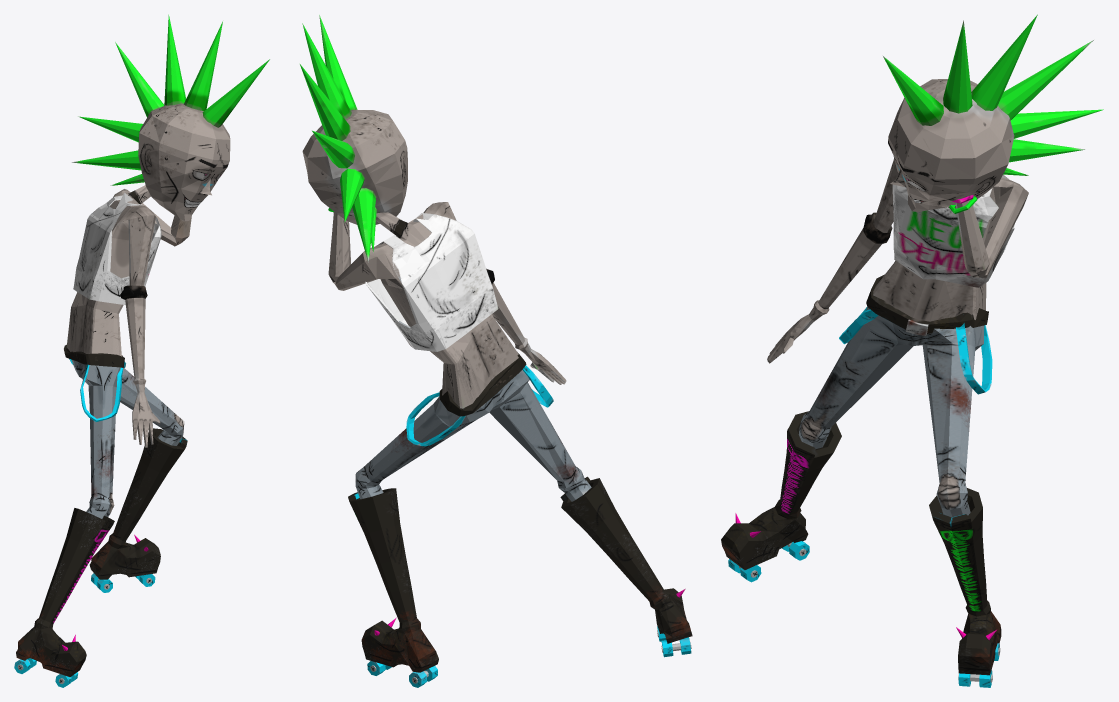
Rendered from punkAnimation_000015.obj.
3 renders of one model, left to right at view 1: azimuth 30°, elevation 25°; view 2: azimuth 150°, elevation 25°; view 3: azimuth 270°, elevation 25°, orthographic. The views are drawn at different scales.
Visible parts, largest first — view 1: Cube.004_Cube.003; view 2: Cube.004_Cube.003; view 3: Cube.004_Cube.003.
Boxes of the visible parts, bbox=[...] form: Cube.004_Cube.003: bbox=[14, 14, 269, 687]; Cube.004_Cube.003: bbox=[300, 15, 692, 687]; Cube.004_Cube.003: bbox=[721, 14, 1103, 687].
Bounding box in the file's own units: 3.69 × 6.61 × 3.23.
